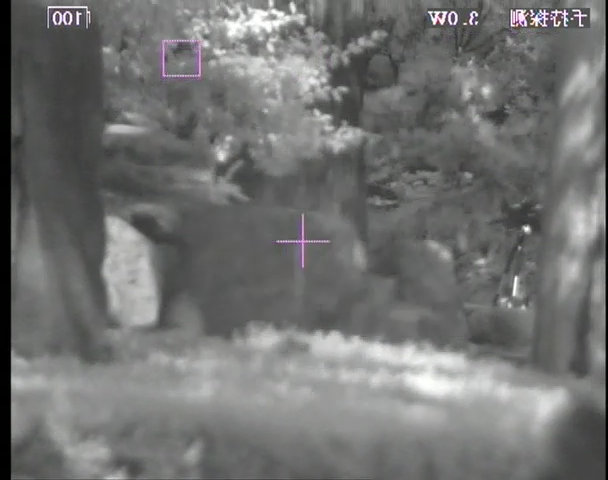my: (521, 224, 531, 235)
